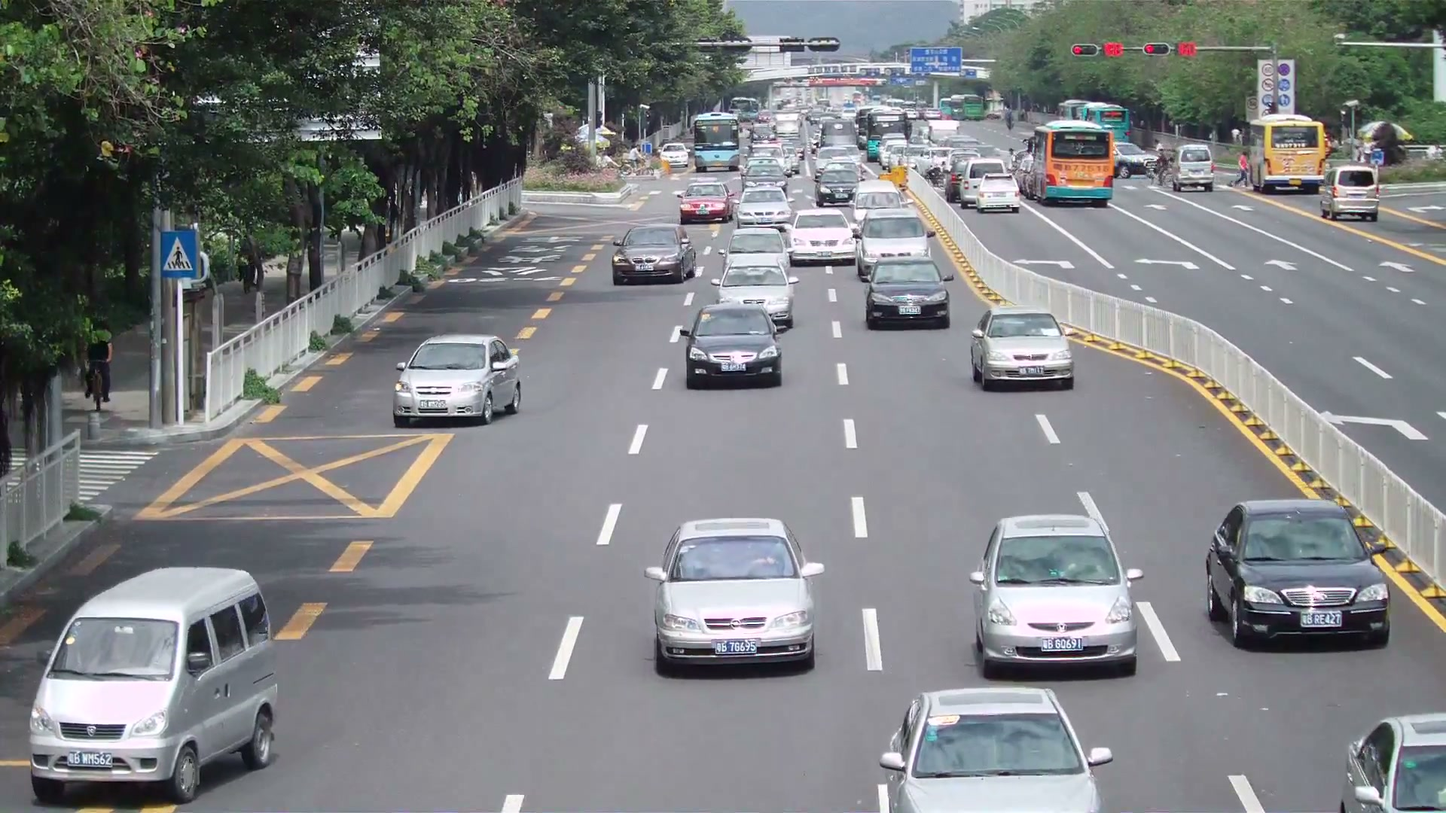car: (27, 563, 281, 805), (969, 508, 1145, 681), (876, 685, 1112, 812), (1203, 497, 1393, 652), (645, 517, 824, 678), (393, 333, 523, 426), (1339, 711, 1445, 811), (707, 227, 797, 331), (969, 307, 1076, 391), (683, 304, 784, 389), (863, 256, 951, 330), (854, 208, 930, 283), (612, 223, 696, 285), (787, 208, 856, 265), (1317, 164, 1381, 222), (734, 187, 796, 231), (678, 178, 733, 222)
pedestrian: (86, 317, 114, 407)
truck: (27, 564, 281, 804), (1014, 121, 1115, 206), (1244, 114, 1332, 192), (1317, 163, 1381, 223), (1174, 143, 1215, 193)
